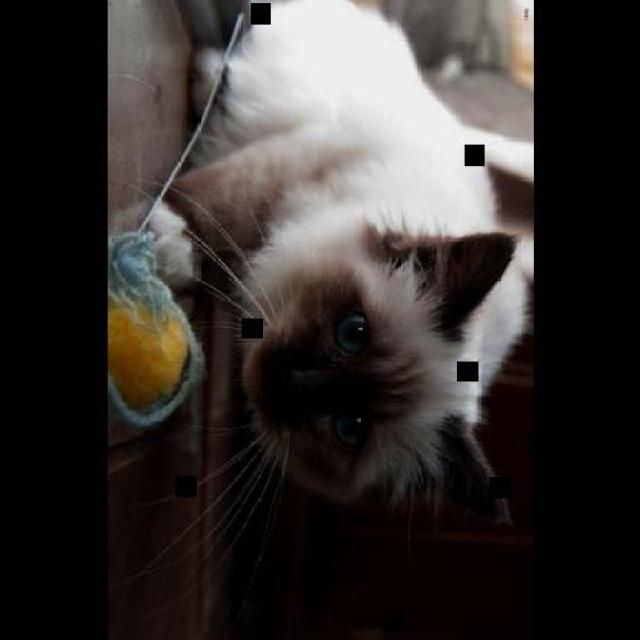unauthorized: (114, 0, 534, 577)
